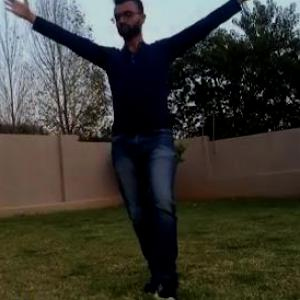takeoff: (20, 0, 238, 299)
